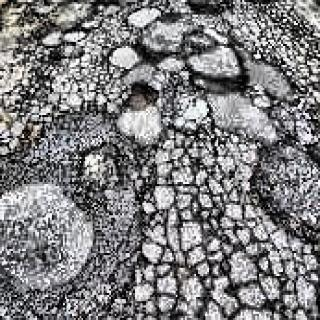alligator-crack: (2, 0, 320, 320)
pothole: (0, 180, 96, 290), (120, 81, 158, 111)
